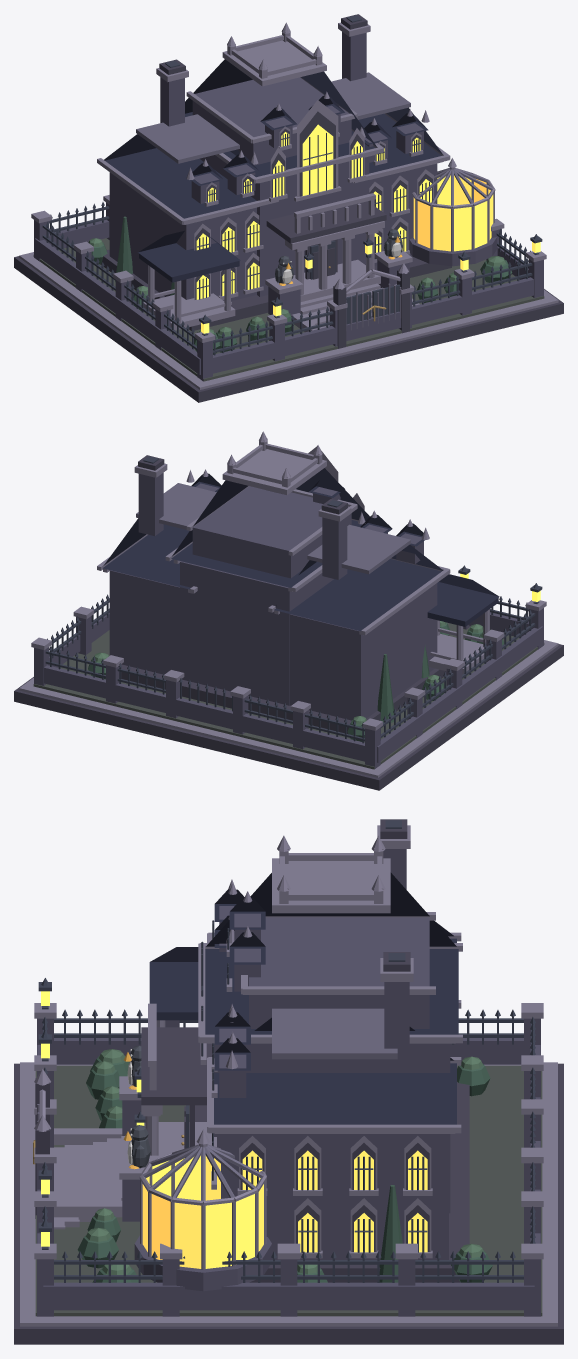
The model's file is cobblepot_before_roof_detail.glb.
The picture shows the model from 3 angles, top to bottom: view 1: azimuth 30°, elevation 25°; view 2: azimuth 150°, elevation 25°; view 3: azimuth 270°, elevation 25°; orthographic projection. The views are drawn at different scales.
Visible parts, largest first — view 1: SM_Plot_LowerPlinth, SM_Manor_LeftWing, SM_Manor_UpperTower, SM_Fence_LowWall.002, SM_Plot_Coping, SM_Manor_CentralBlock, SM_Roof_LeftMansard, SM_Garden_Soil, SM_Fence_LowWall, SM_Roof_WingRidge, SM_Roof_CentralMansard, SM_Veranda_Roof (+39 smaller); view 2: SM_Manor_CentralBlock, SM_Manor_LeftWing, SM_Manor_UpperTower, SM_Plot_LowerPlinth, SM_Manor_RightWing, SM_Roof_LeftMansard, SM_Fence_LowWall.003, SM_Plot_Coping, SM_Garden_Soil, SM_Fence_LowWall, SM_Roof_CentralMansard, SM_Roof_RightMansard (+19 smaller); view 3: SM_Garden_Soil, SM_Manor_RightWing, SM_Plot_Coping, SM_Manor_UpperTower, SM_Fence_LowWall.001, SM_Plot_LowerPlinth, SM_Roof_RightMansard, SM_Roof_CentralMansard, SM_Roof_WingRidge.001, SM_Roof_CentralCap, SM_Manor_Foundation, SM_Porch_Roof (+37 smaller).
Boxes of the visible parts, bbox=[...] form: SM_Plot_LowerPlinth: bbox=[14, 256, 563, 402]; SM_Manor_LeftWing: bbox=[109, 172, 256, 301]; SM_Manor_UpperTower: bbox=[192, 77, 351, 165]; SM_Fence_LowWall.002: bbox=[213, 277, 533, 373]; SM_Plot_Coping: bbox=[19, 252, 558, 389]; SM_Manor_CentralBlock: bbox=[200, 155, 369, 296]; SM_Roof_LeftMansard: bbox=[104, 134, 256, 218]; SM_Garden_Soil: bbox=[33, 238, 544, 381]; SM_Fence_LowWall: bbox=[34, 238, 200, 374]; SM_Roof_WingRidge: bbox=[136, 114, 239, 163]; SM_Roof_CentralMansard: bbox=[185, 59, 377, 177]; SM_Veranda_Roof: bbox=[138, 230, 240, 277]; SM_Manor_CentralBlock: bbox=[180, 561, 333, 705]; SM_Manor_LeftWing: bbox=[290, 583, 437, 720]; SM_Manor_UpperTower: bbox=[192, 486, 351, 578]; SM_Plot_LowerPlinth: bbox=[14, 644, 563, 790]; SM_Manor_RightWing: bbox=[109, 570, 179, 674]; SM_Roof_LeftMansard: bbox=[274, 544, 442, 631]; SM_Fence_LowWall.003: bbox=[44, 665, 364, 761]; SM_Plot_Coping: bbox=[19, 640, 558, 777]; SM_Garden_Soil: bbox=[33, 622, 544, 769]; SM_Fence_LowWall: bbox=[377, 626, 543, 762]; SM_Roof_CentralMansard: bbox=[171, 468, 369, 587]; SM_Roof_RightMansard: bbox=[103, 518, 190, 589]; SM_Garden_Soil: bbox=[35, 1065, 542, 1316]; SM_Manor_RightWing: bbox=[221, 1134, 448, 1264]; SM_Plot_Coping: bbox=[20, 1062, 557, 1326]; SM_Manor_UpperTower: bbox=[249, 917, 429, 1028]; SM_Fence_LowWall.001: bbox=[43, 1282, 534, 1310]; SM_Plot_LowerPlinth: bbox=[14, 1063, 563, 1344]; SM_Roof_RightMansard: bbox=[214, 1017, 456, 1124]; SM_Roof_CentralMansard: bbox=[205, 872, 458, 1034]; SM_Roof_WingRidge.001: bbox=[272, 1008, 397, 1059]; SM_Roof_CentralCap: bbox=[272, 858, 390, 913]; SM_Manor_Foundation: bbox=[195, 1082, 469, 1282]; SM_Porch_Roof: bbox=[141, 1027, 212, 1105].
Size of the model in its own units: 16 by 10.03 by 14.
